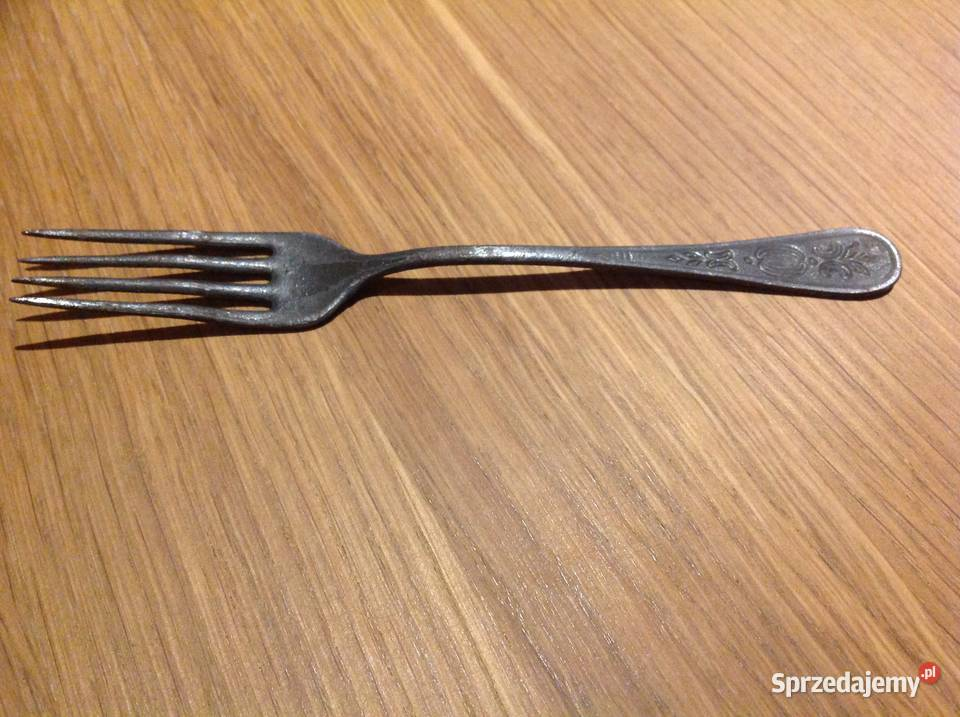Widelec: (15, 222, 361, 346)
